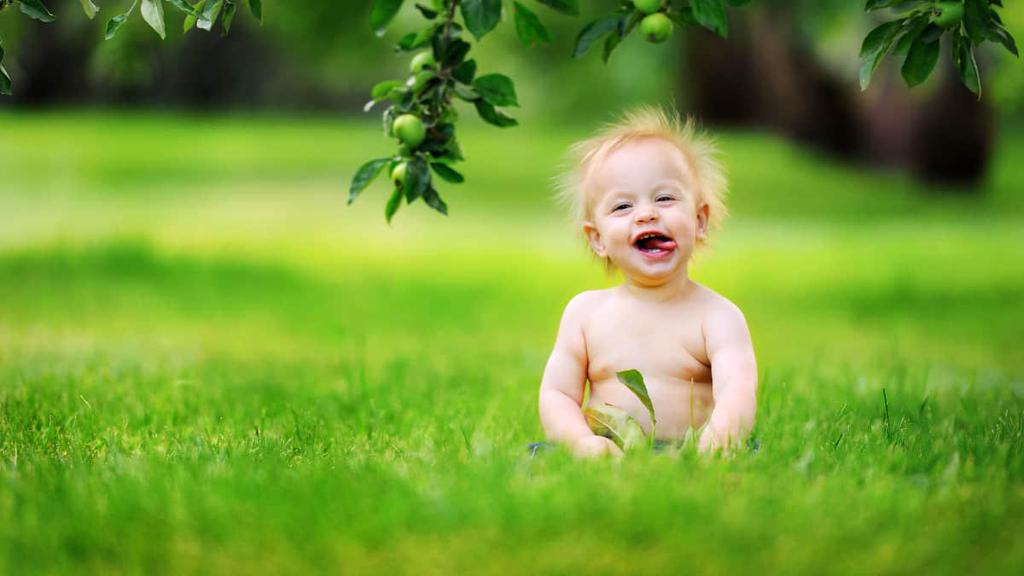child: (511, 100, 769, 472)
